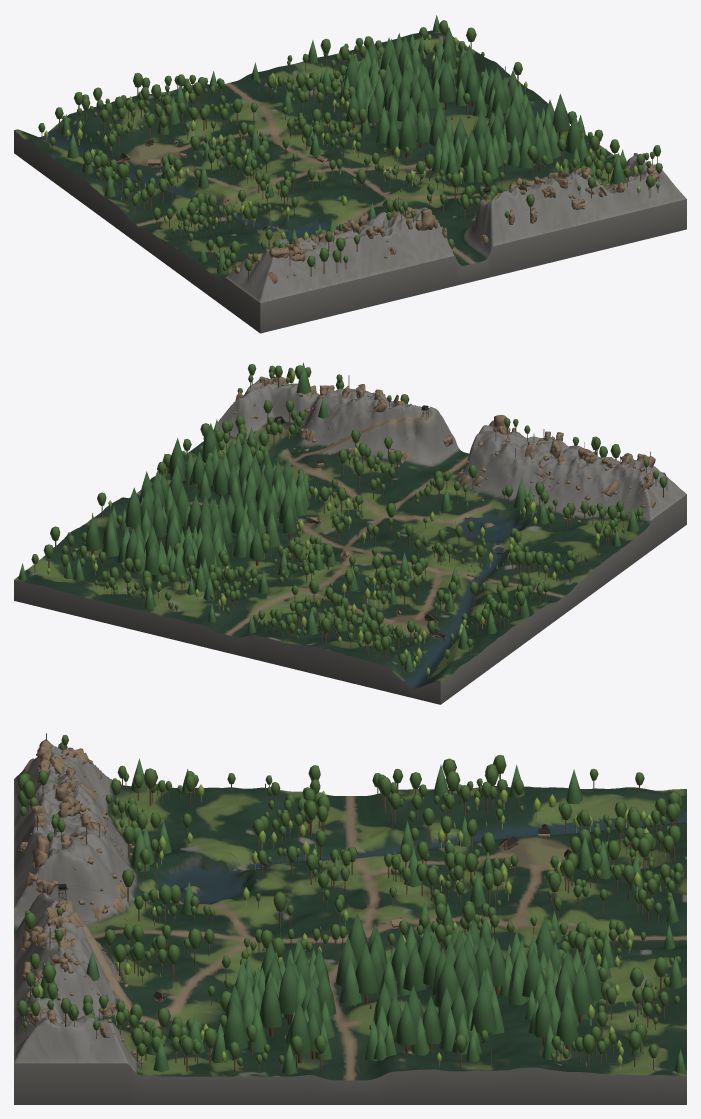
The model's file is near.glb.
3 renders of one model, top to bottom at view 1: azimuth 30°, elevation 25°; view 2: azimuth 150°, elevation 25°; view 3: azimuth 270°, elevation 25°, orthographic. The views are drawn at different scales.
Visible parts, largest first — view 1: near-placeholder; view 2: near-placeholder; view 3: near-placeholder.
Part boxes in pixels (x1,y1,x2,y2): near-placeholder: [14, 15, 686, 333]; near-placeholder: [14, 362, 686, 704]; near-placeholder: [14, 733, 686, 1104].
Size of the model in its own units: 500 by 91.49 by 500.
